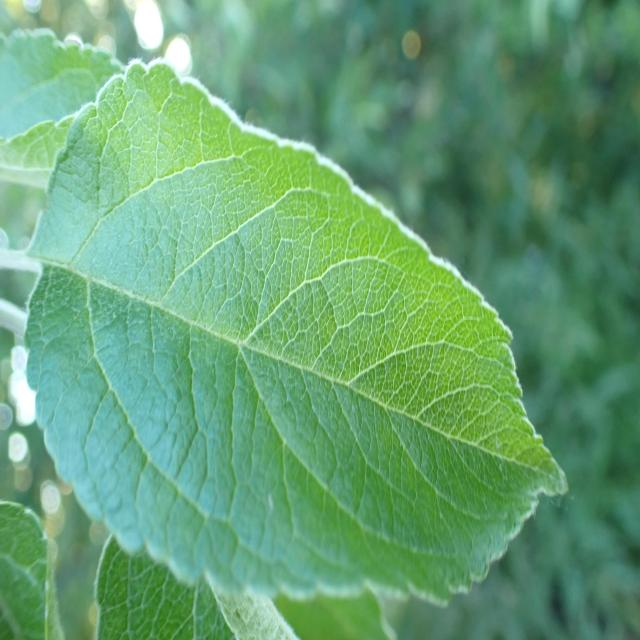healthy: (21, 58, 570, 607), (94, 530, 300, 640), (0, 26, 126, 171), (1, 499, 52, 640)
